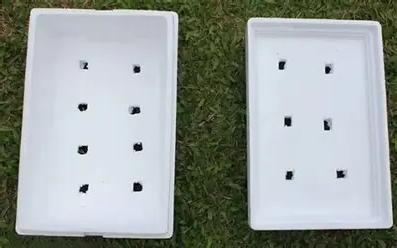ROAD_OBSTACLE: (15, 8, 179, 236), (247, 18, 392, 230)
